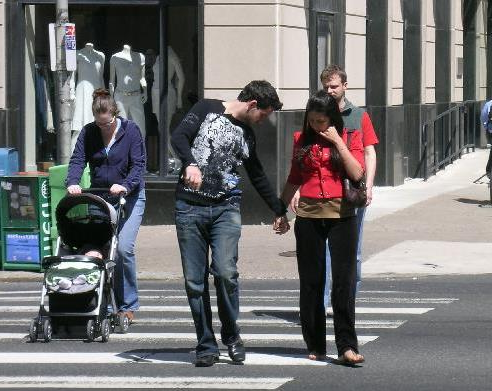pedestrian: (170, 80, 289, 367), (29, 88, 146, 342), (280, 92, 367, 363)
